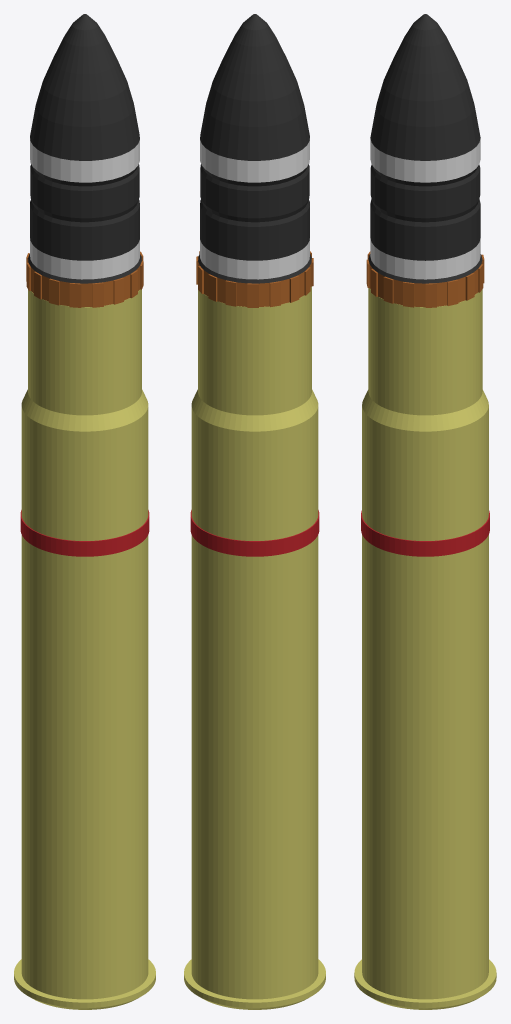
Rendered from Bullet.fbx.
3 renders of one model, left to right at view 1: azimuth 30°, elevation 25°; view 2: azimuth 150°, elevation 25°; view 3: azimuth 270°, elevation 25°, orthographic.
Visible parts, largest first — view 1: Circle.011, Circle.012; view 2: Circle.011, Circle.012; view 3: Circle.011, Circle.012.
Boxes of the visible parts, x1,y1,x2,y2 form: Circle.011: [14, 289, 155, 1009]; Circle.012: [26, 14, 143, 307]; Circle.011: [184, 286, 325, 1009]; Circle.012: [196, 14, 313, 307]; Circle.011: [354, 288, 496, 1009]; Circle.012: [366, 14, 484, 307].
Size of the model in its own units: 59.89 by 450 by 59.89.
